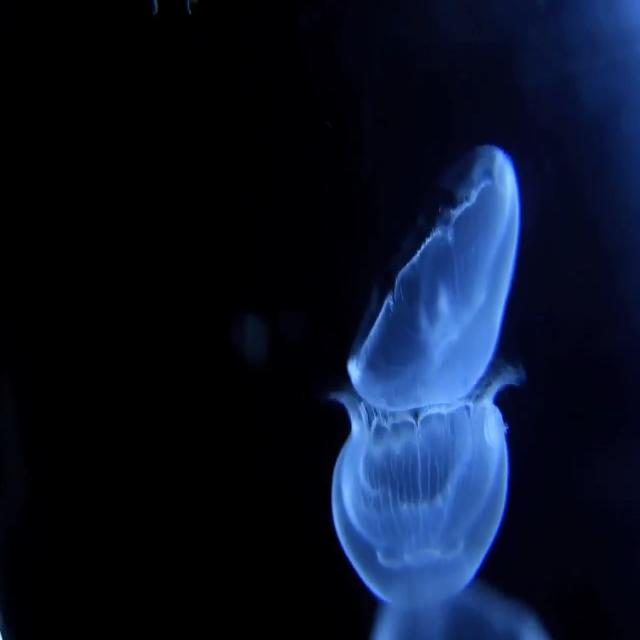Moon-jellyfish: (346, 144, 523, 412), (328, 389, 511, 639)
